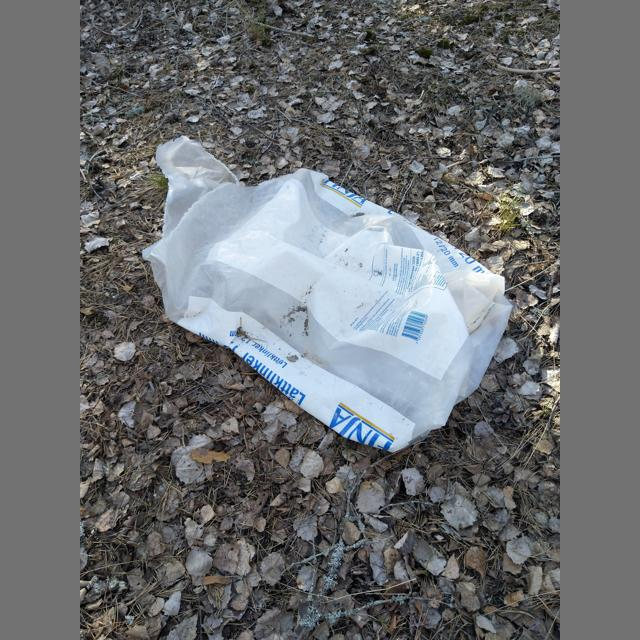litter: (142, 136, 513, 453)
